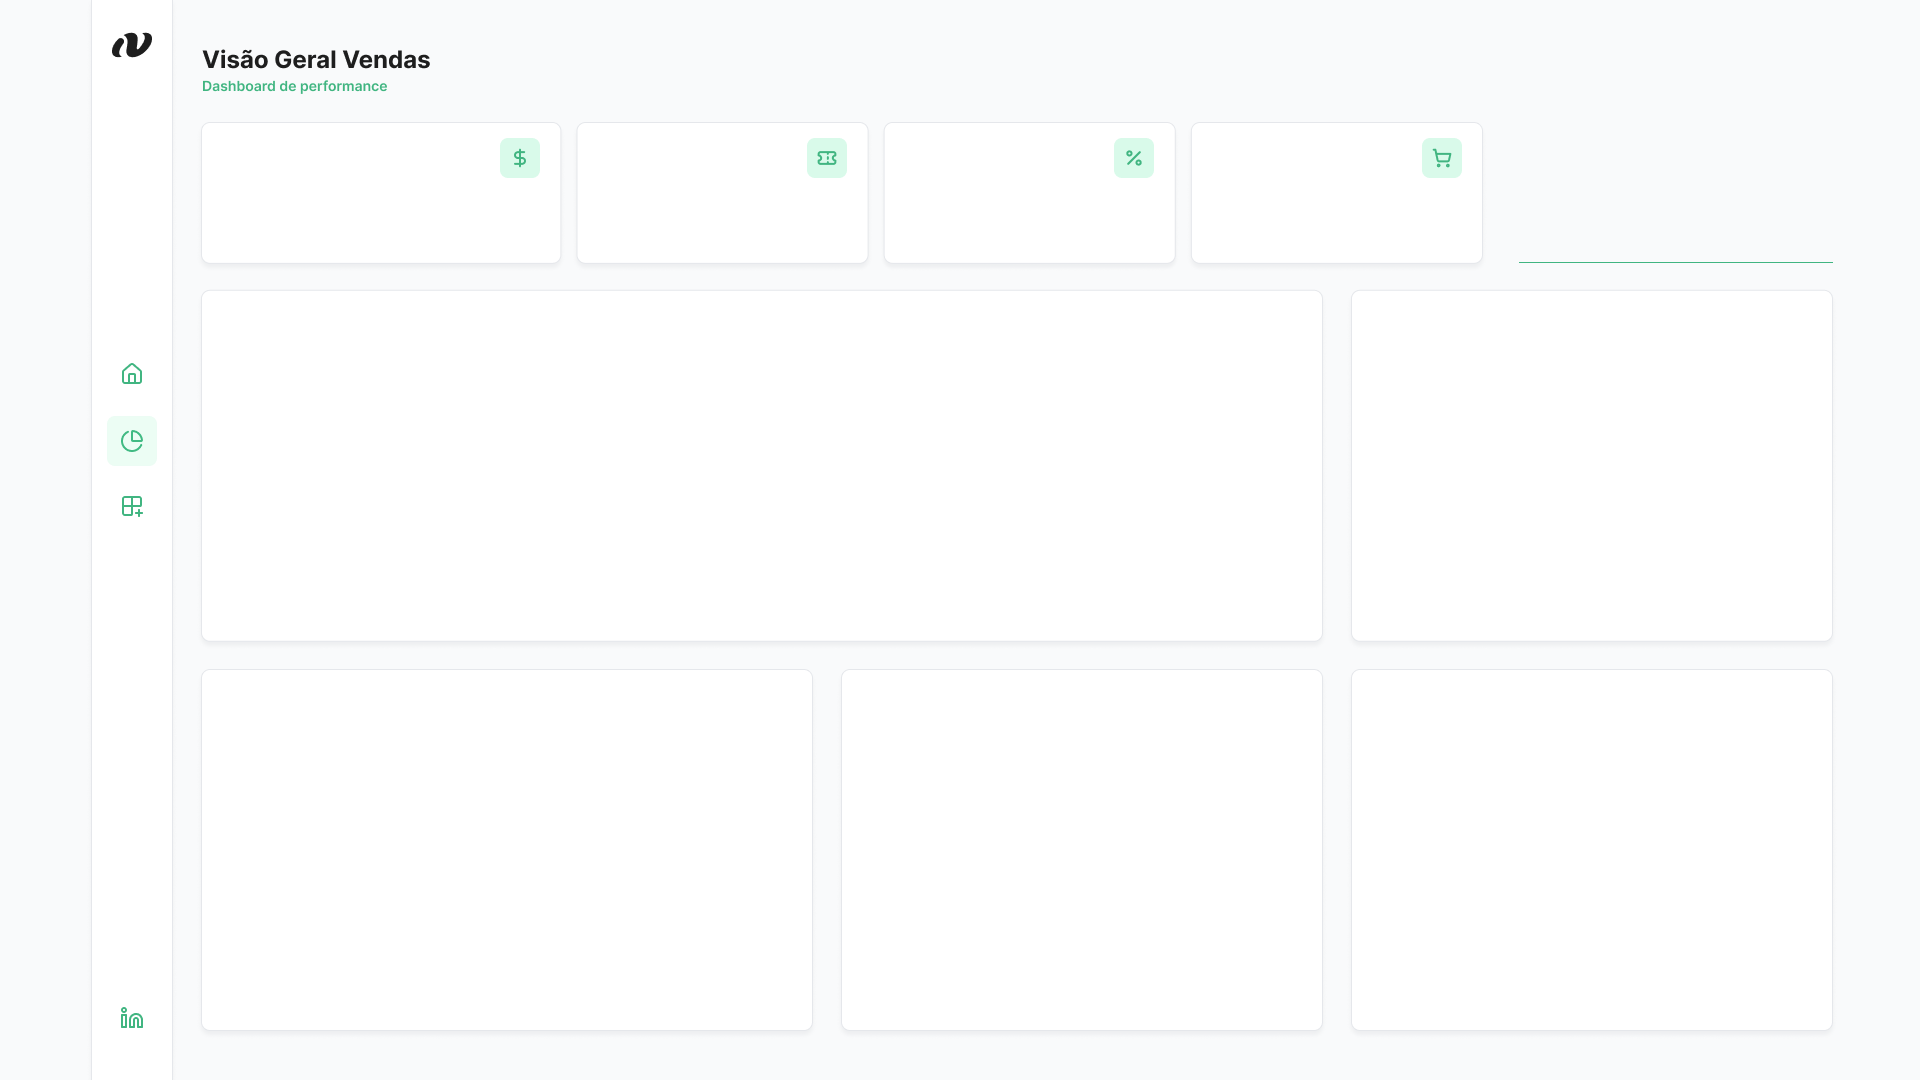

The dashboard page shown, as its layout file describes it:
{"tool":"powerbi","page":{"name":"Principal","canvas":[1920,1080],"ordinal":0},"visuals":[{"type":"slicer","title":"Ano","fields":{"Values":["D_Calendario.Ano"]},"box":[1520,176,142.6,80],"z":0,"group":"g1"},{"type":"clusteredBarChart","fields":{"Category":["dProduto.Nome"],"Y":["Medidas.Top 10 Produtos Vendidos"]},"box":[1376,688,432,320],"z":0},{"type":"slicer","title":"Mês","fields":{"Values":["D_Calendario.Mês"]},"box":[1662.6,176,161.4,80],"z":1000,"group":"g1"},{"type":"donutChart","title":"% Vendas por Categoria","fields":{"Y":["Medidas.Nº de vendas"],"Category":["dProduto.Categoria"]},"box":[1360,304,464,320],"z":1000},{"type":"slicer","title":"Categoria","fields":{"Values":["dProduto.Categoria"]},"box":[1520,96,304,80],"z":2000},{"type":"group","id":"g1","title":"Grupo 1","box":[1520,176,304,80],"z":3000},{"type":"lineStackedColumnComboChart","fields":{"Category":["D_Calendario.Ano","D_Calendario.Mês Abr"],"Y":["Medidas.Total de vendas"]},"box":[224,304,1072,320],"z":4000},{"type":"card","title":"$ Faturamento","fields":{"Values":["Medidas.Faturamento"]},"box":[208,128,288,96],"z":5000},{"type":"card","fields":{"Values":["Medidas.% Fat YoY (texto)"]},"box":[208,224,224,32],"z":6000},{"type":"areaChart","title":"% Faturamento vs Ano Anterior por Mês","fields":{"Category":["D_Calendario.Mês Abr","D_Calendario.Ano"],"Y":["Medidas.% Fat YoY"]},"box":[224,688,560,320],"z":7000},{"type":"barChart","fields":{"Y":["Medidas.Top 10 Vendedores"],"Category":["dFuncionario.Nome"]},"box":[864,688,432,320],"z":8000},{"type":"card","title":"$ Ticket Médio","fields":{"Values":["Medidas.Ticket Medio"]},"box":[584,128,224,96],"z":9000},{"type":"card","fields":{"Values":["Medidas.% Ticket Médio YoY (texto)"]},"box":[584,224,208,32],"z":10000},{"type":"card","title":"$ Margem Bruta","fields":{"Values":["Medidas.Margem Bruta"]},"box":[896,128,224,96],"z":11000},{"type":"card","title":"Qtd. Vendida","fields":{"Values":["Medidas.Total de vendas"]},"box":[1200,128,128,96],"z":12000},{"type":"card","fields":{"Values":["Medidas.% Margem Bruta YoY (texto)"]},"box":[896,224,224,32],"z":13000},{"type":"card","fields":{"Values":["Medidas.% Qtd. Vendida YoY (texto)"]},"box":[1200,224,224,32],"z":14000},{"type":"actionButton","box":[96,480,80,48],"z":15000},{"type":"actionButton","box":[96,992,80,48],"z":16000}]}

Visuals, with their boxes on the page's 1920x1080 design canvas (x1, y1, x2, y2). These are canvas units, not pixel positions in the 1920x1080 screenshot, which may show the page scaled, cropped or inside an application window:
"Ano" slicer: BBox(1520, 176, 1663, 256)
clusteredBarChart - dProduto.Nome x Medidas.Top 10 Produtos Vendidos: BBox(1376, 688, 1808, 1008)
"Mês" slicer: BBox(1663, 176, 1824, 256)
"% Vendas por Categoria" donutChart: BBox(1360, 304, 1824, 624)
"Categoria" slicer: BBox(1520, 96, 1824, 176)
"Grupo 1" group: BBox(1520, 176, 1824, 256)
lineStackedColumnComboChart - D_Calendario.Ano x D_Calendario.Mês Abr: BBox(224, 304, 1296, 624)
"$ Faturamento" card: BBox(208, 128, 496, 224)
card - Medidas.% Fat YoY (texto): BBox(208, 224, 432, 256)
"% Faturamento vs Ano Anterior por Mês" areaChart: BBox(224, 688, 784, 1008)
barChart - Medidas.Top 10 Vendedores x dFuncionario.Nome: BBox(864, 688, 1296, 1008)
"$ Ticket Médio" card: BBox(584, 128, 808, 224)
card - Medidas.% Ticket Médio YoY (texto): BBox(584, 224, 792, 256)
"$ Margem Bruta" card: BBox(896, 128, 1120, 224)
"Qtd. Vendida" card: BBox(1200, 128, 1328, 224)
card - Medidas.% Margem Bruta YoY (texto): BBox(896, 224, 1120, 256)
card - Medidas.% Qtd. Vendida YoY (texto): BBox(1200, 224, 1424, 256)
actionButton: BBox(96, 480, 176, 528)
actionButton: BBox(96, 992, 176, 1040)
